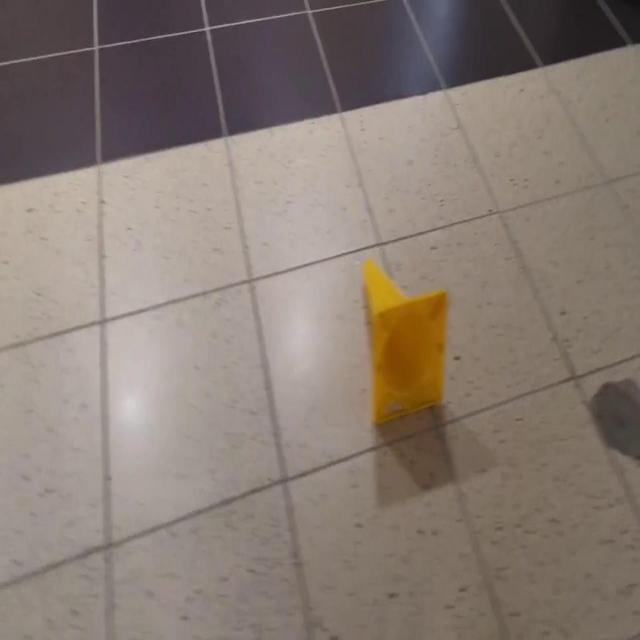frc_cone: (362, 255, 446, 420)
